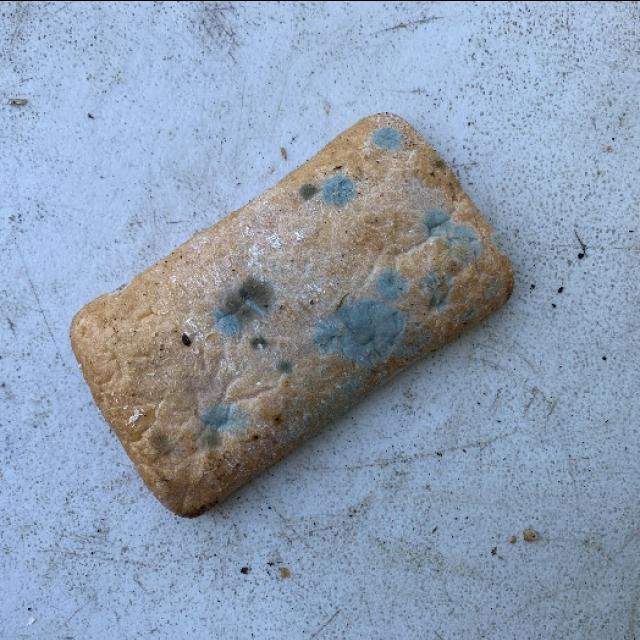organik: (66, 96, 516, 506)
